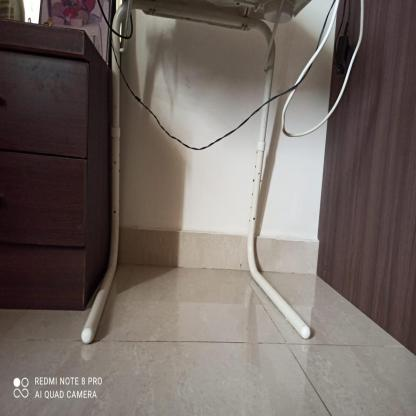cable: (137, 75, 241, 177), (304, 29, 328, 142)
furniture: (2, 33, 90, 313), (341, 1, 415, 332)
table: (109, 1, 306, 342)
